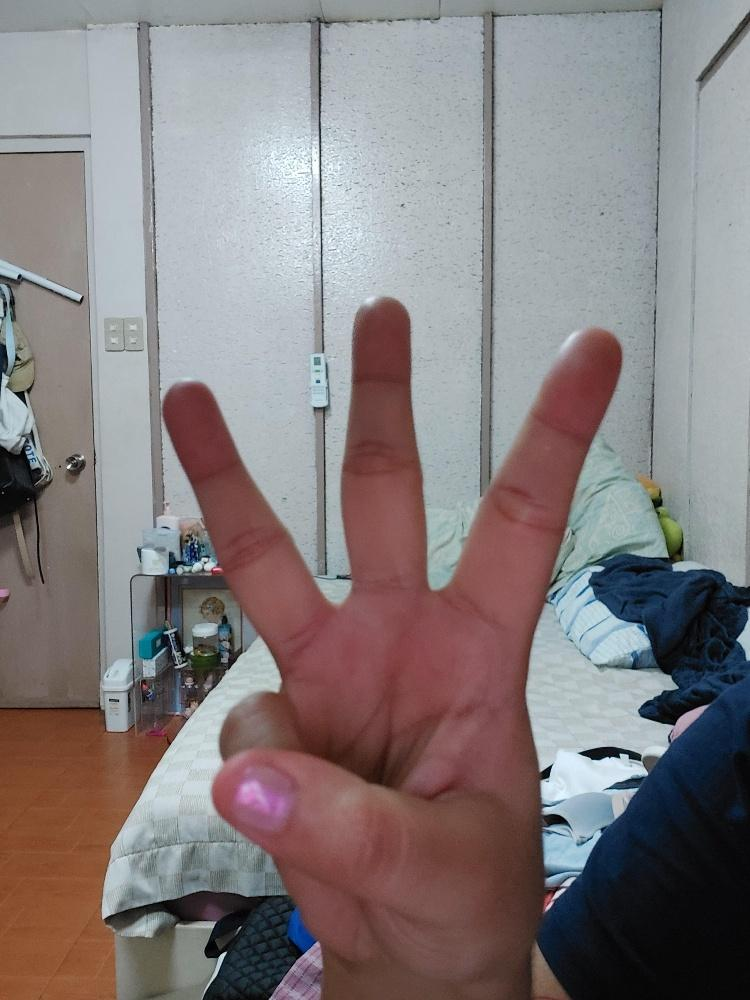w: (159, 293, 623, 982)
